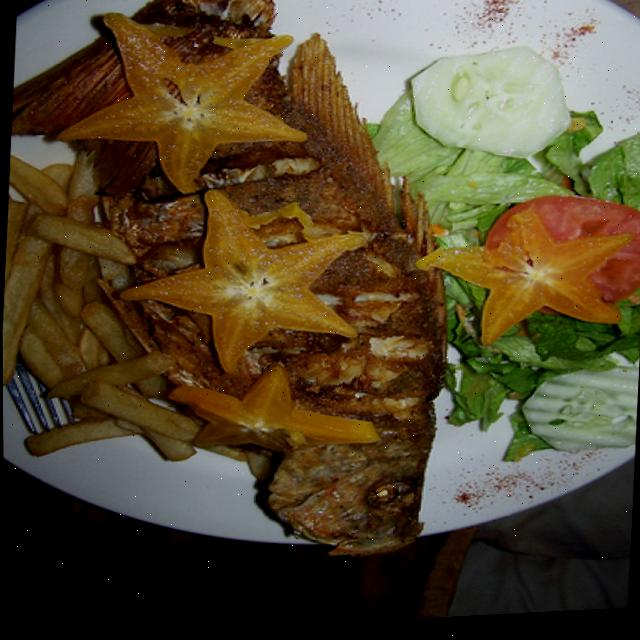炸货点心: (18, 0, 479, 629)
熟制海鲜: (18, 0, 479, 629)
